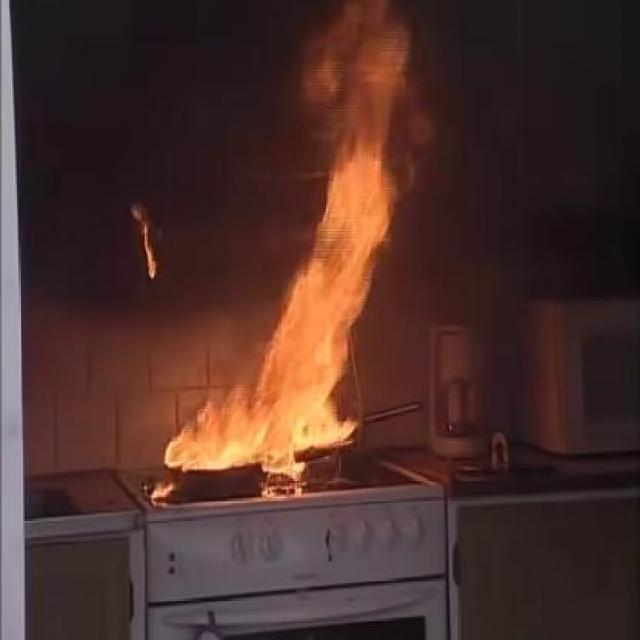fire: (135, 193, 400, 458)
smoke: (269, 11, 483, 131)
